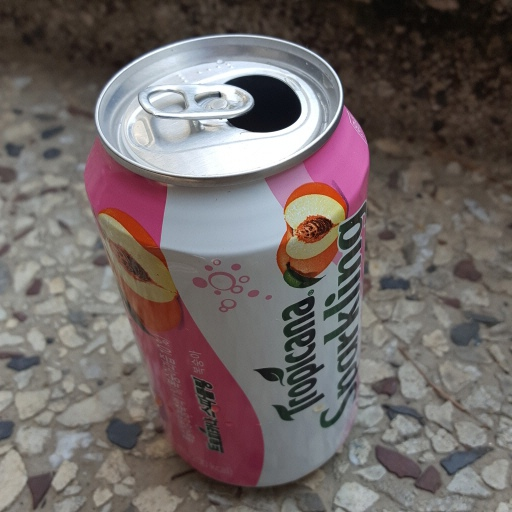Metal_0: (85, 32, 370, 487)
